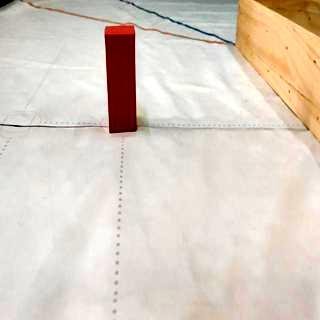redbox: (106, 23, 136, 132)
